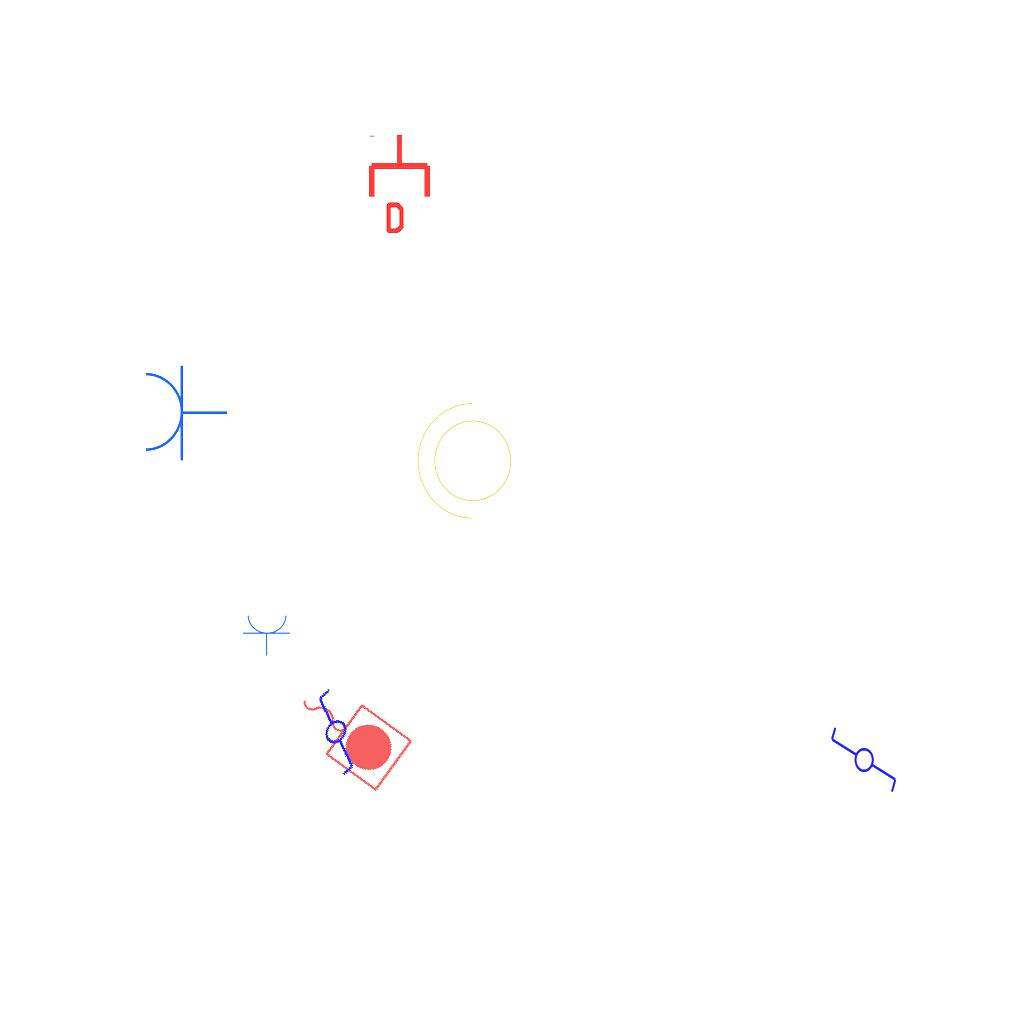Datenanschluss_einfach: (365, 133, 434, 233)
Scheinwerfer_fuer_Alarmbeleuchtung: (412, 398, 524, 530)
Schukosteckdose_einfach: (141, 362, 228, 462), (242, 613, 292, 656)
Wechselschalter: (287, 676, 391, 782), (827, 725, 899, 803)
Zugtaster: (278, 667, 420, 797)
